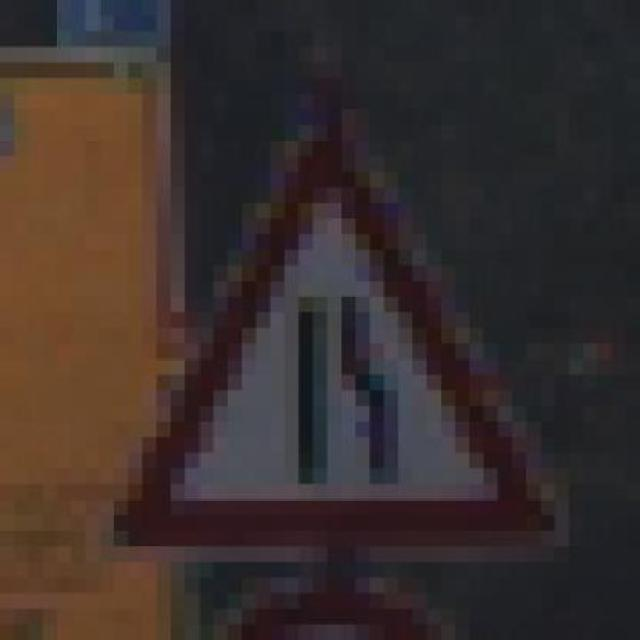-Road narrows on right: (114, 93, 583, 562)
